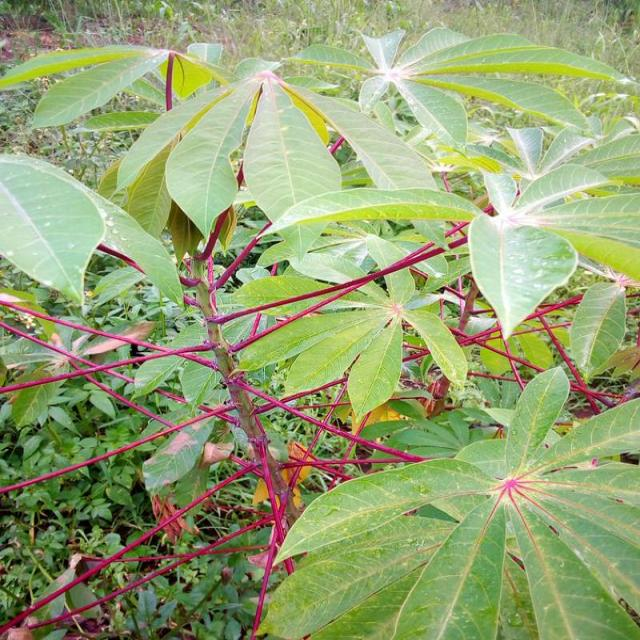cassava leaf: (1, 23, 638, 638), (254, 365, 639, 638)
